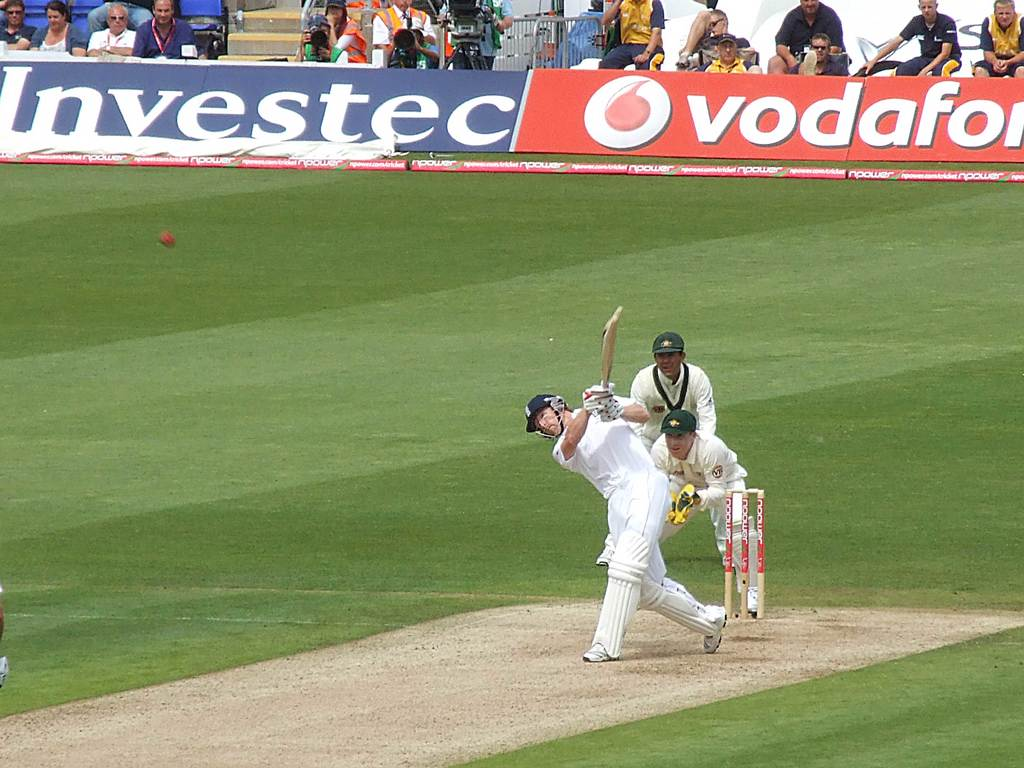Person: (0, 0, 1024, 81)
